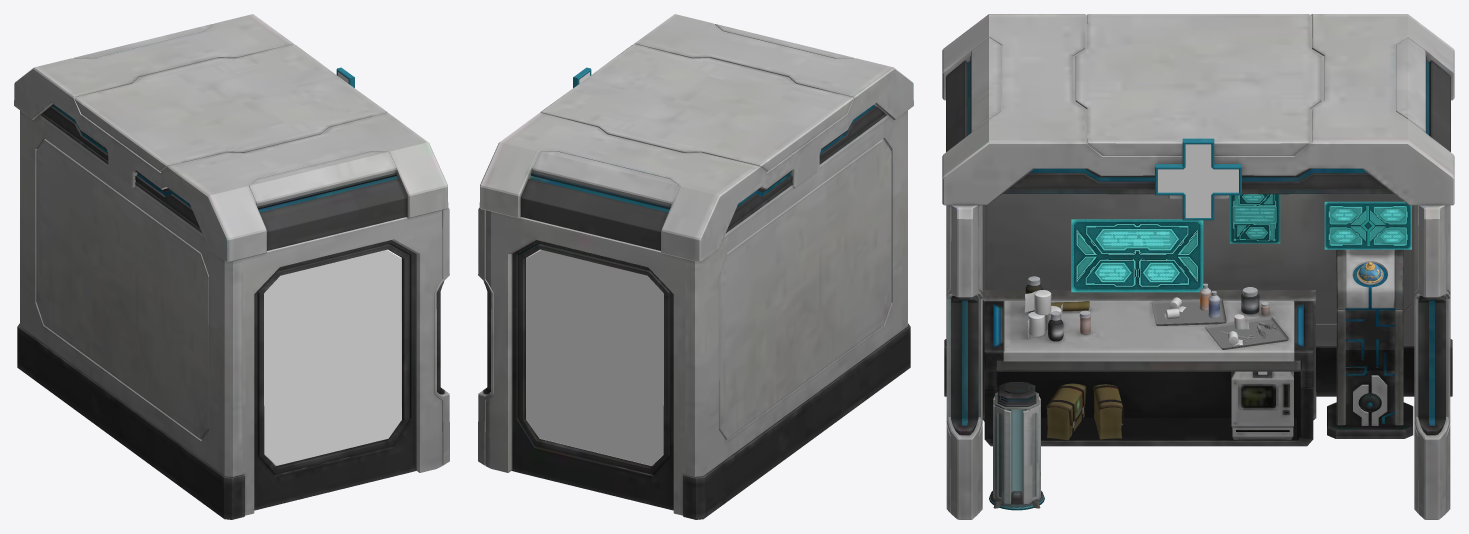
Rendered from SM_InfirmaryAncient_a58639.glb.
3 renders of one model, left to right at view 1: azimuth 30°, elevation 25°; view 2: azimuth 150°, elevation 25°; view 3: azimuth 270°, elevation 25°, orthographic. The views are drawn at different scales.
Size of the model in its own units: 2.12 by 2.8 by 3.44.
Materials: 7 (6 with a texture image).
